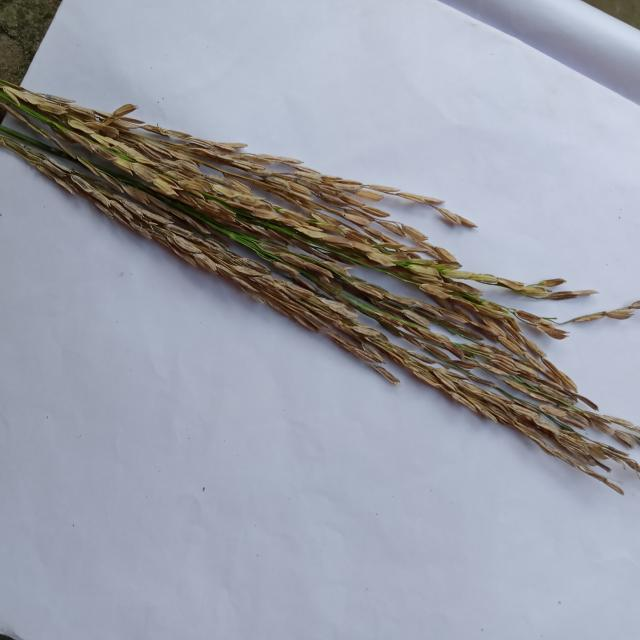Neck_Blast: (0, 85, 640, 493), (15, 80, 640, 452)
